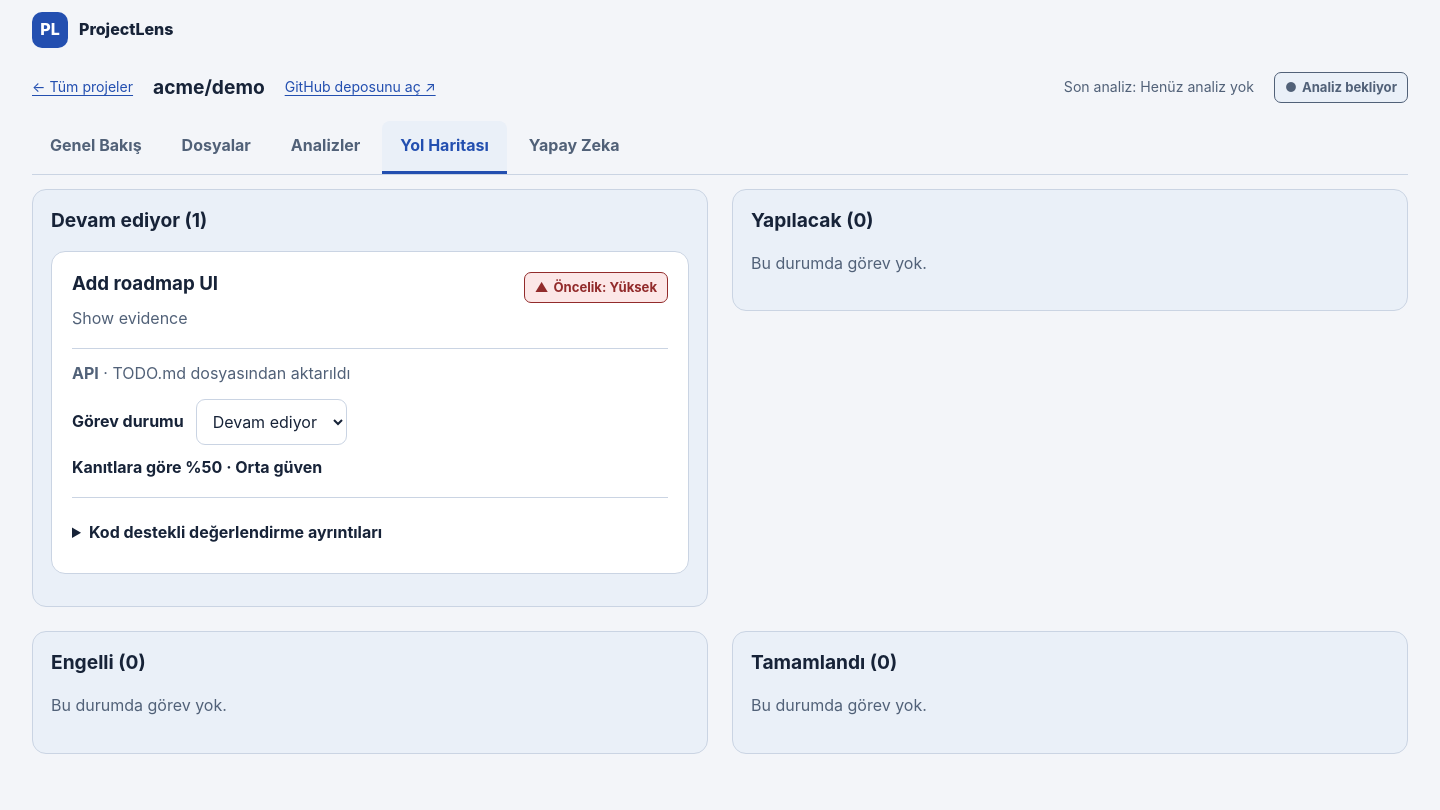
Scenario: project roadmap page › shows failed manual status updates inline
(page scrolled)
Select "Tamamlandı" in the dropdown labelled "Görev durumu": coordinates (271, 422) [196,399,347,445]
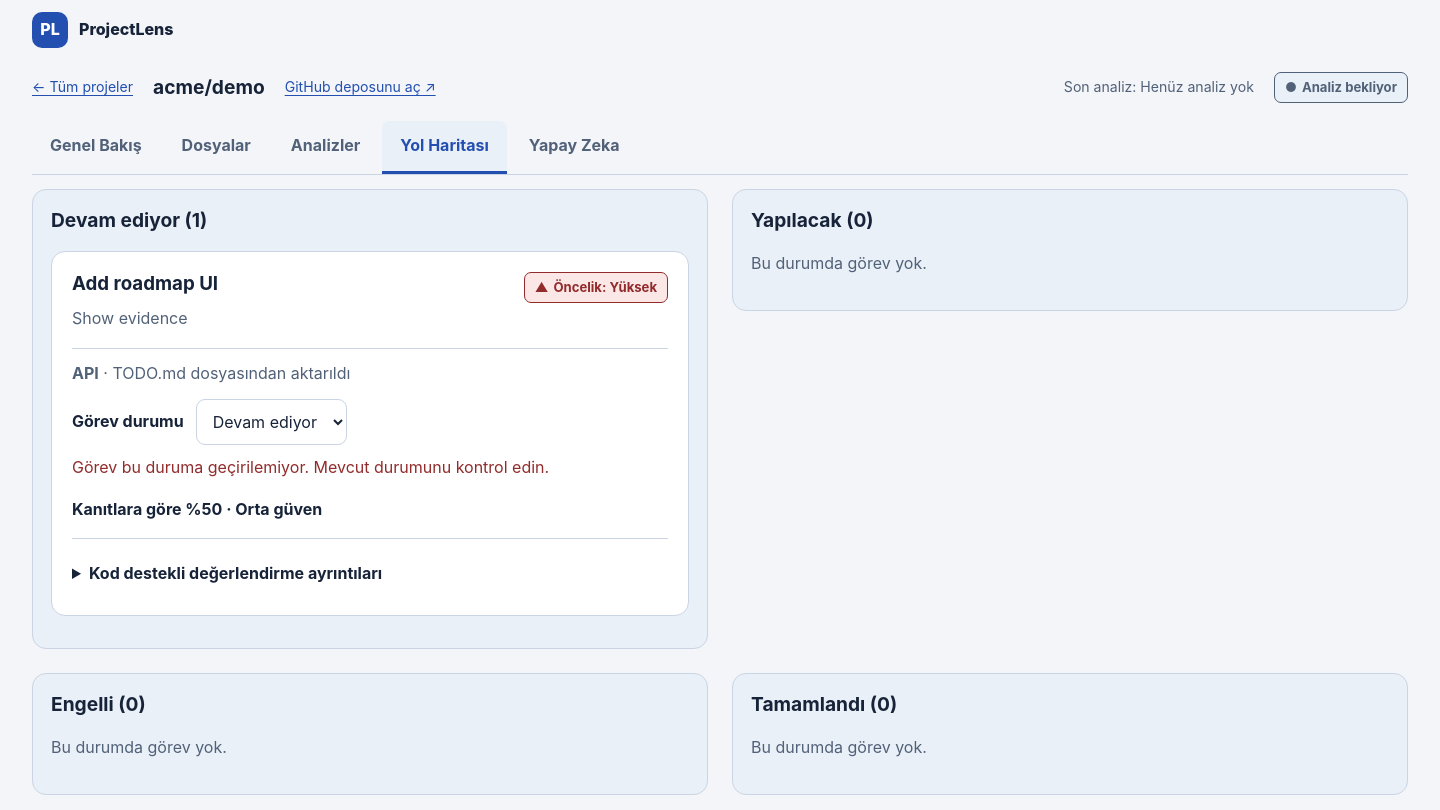
Expected: the message reads "Görev bu duruma geçirilemiyor. Mevcut durumunu kontrol edin.", [72,457,549,477]
